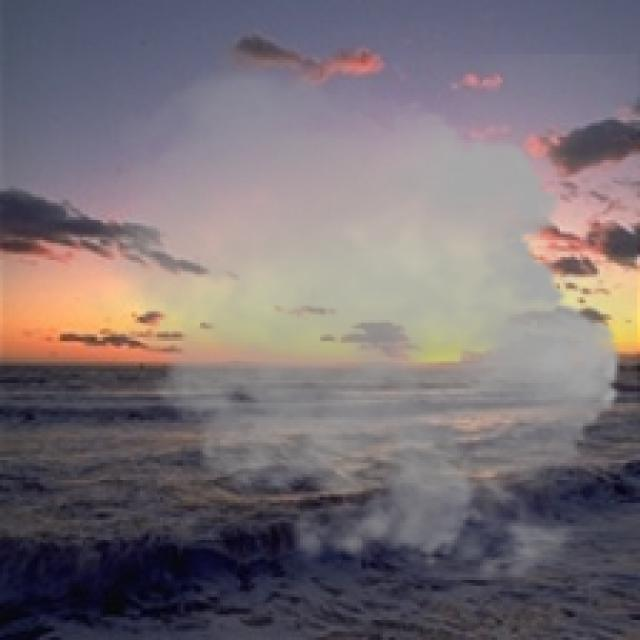Smoke: (74, 54, 637, 597)
